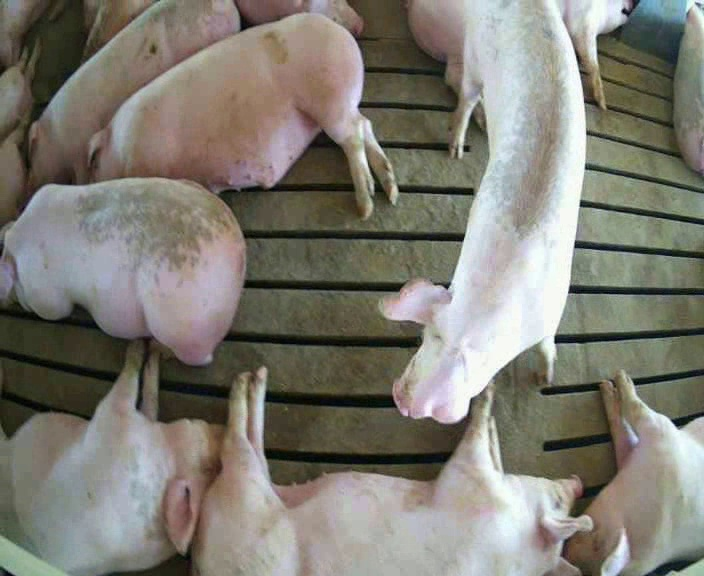pig: (193, 369, 591, 574), (90, 15, 397, 217), (0, 340, 220, 573), (29, 3, 239, 190), (565, 370, 703, 574), (673, 4, 703, 175)
